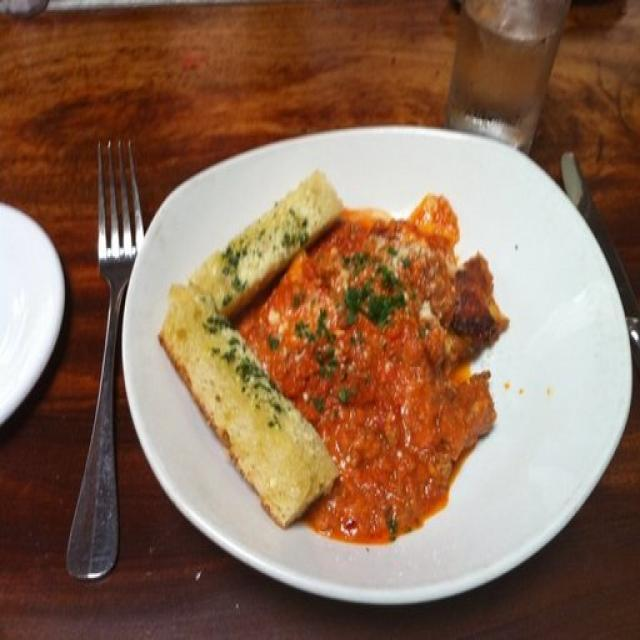Lasagna: (287, 241, 502, 517)
